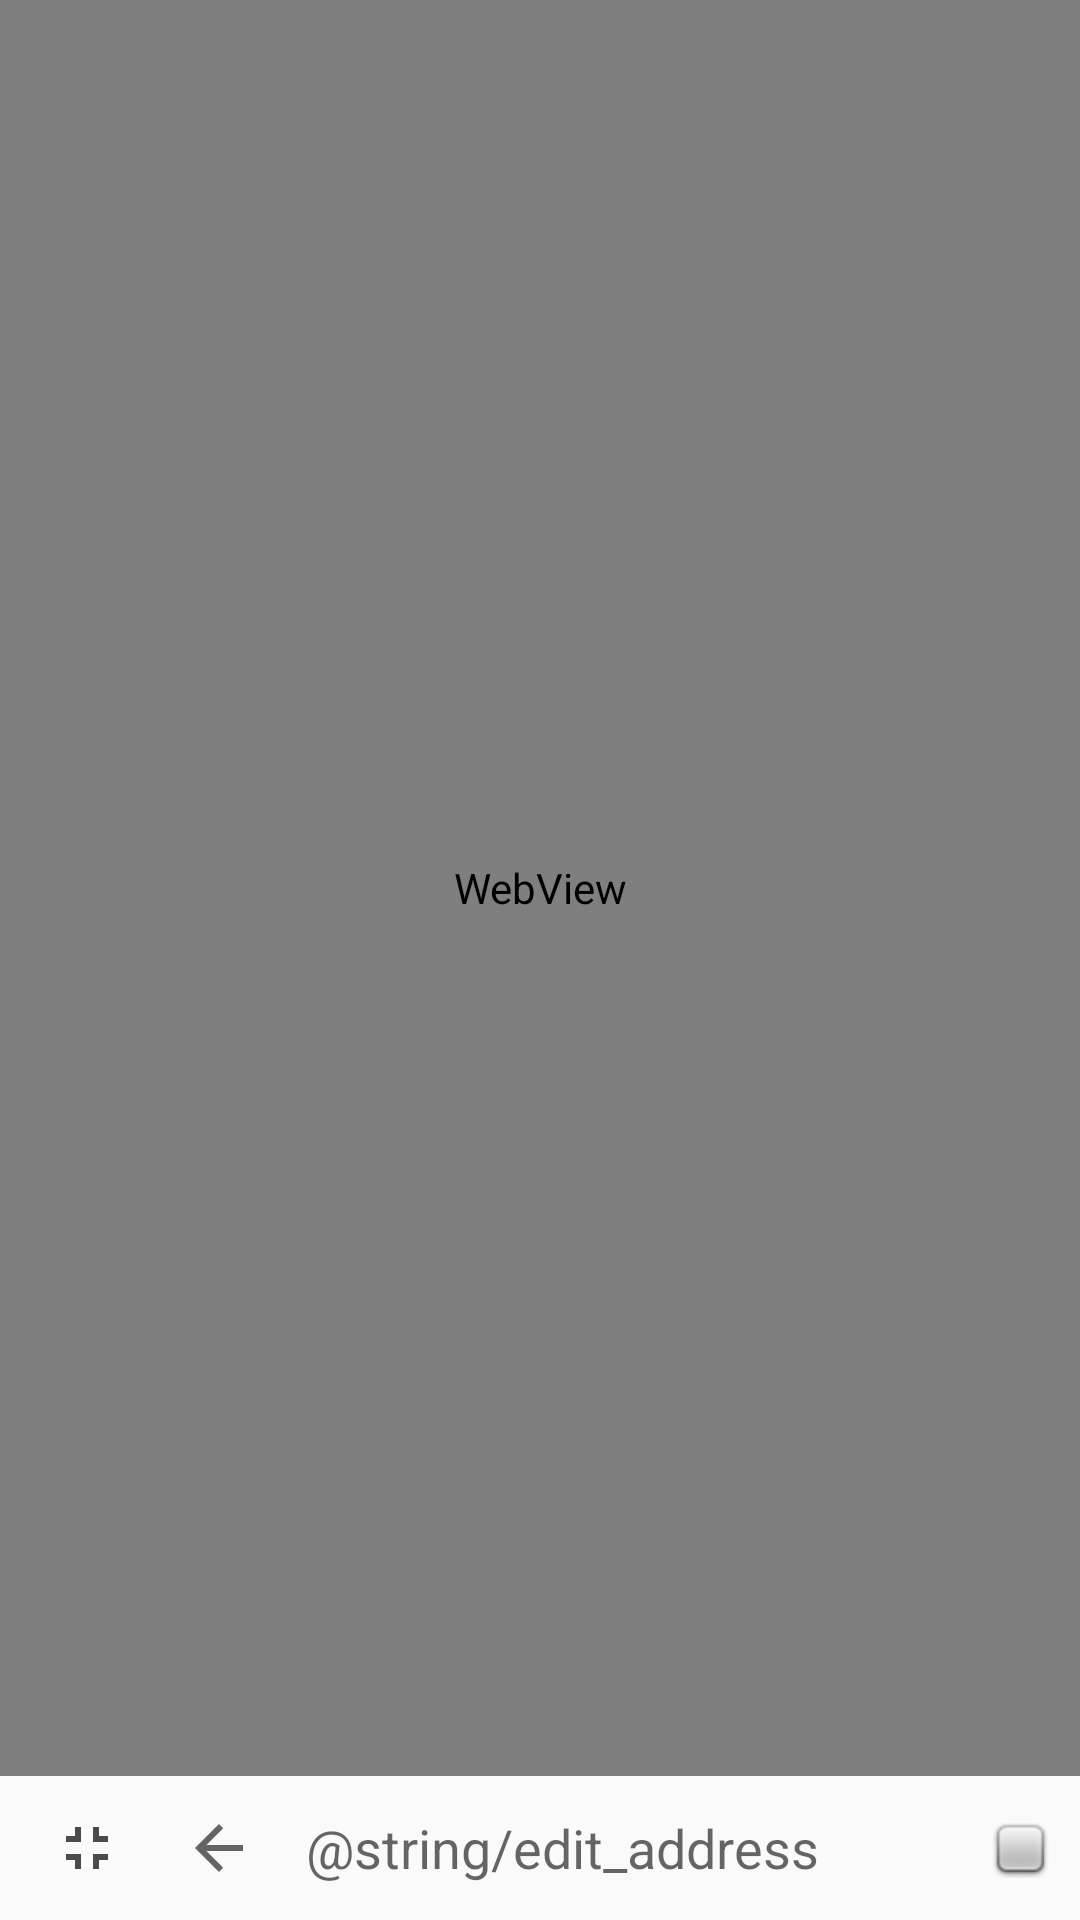

Screen size 1080 x 1920. Icon name, then its box in pixels as detection(x1, y1, x2, y2):
fullscreen exit: detection(66, 1827, 108, 1869)
